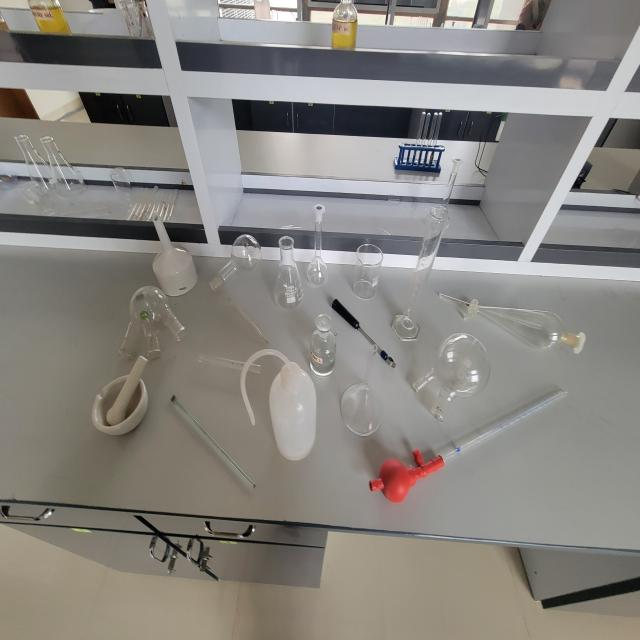Beaker: (346, 240, 392, 308)
Buchner_Funnel: (136, 208, 203, 309)
Conical_Flask: (270, 230, 310, 316)
Funnel: (334, 342, 388, 447)
Glass_Rod: (155, 376, 278, 505)
Measuring_Cylinder: (382, 194, 460, 362)
Porcelain_Mortar Pestle: (72, 350, 158, 455)
Reagent_Bottle: (301, 308, 343, 390)
Round_Bottom_Flask_Borosilicate_Glass_1_Neck: (202, 209, 270, 310)
Round_Bottom_Flask_Borosilicate_Glass_2_Neck: (407, 322, 525, 427)
Separating_Funnel: (429, 273, 606, 377)
Volumetric_Flask: (300, 197, 340, 301)
Volumetric_Pipet: (351, 375, 580, 527)
